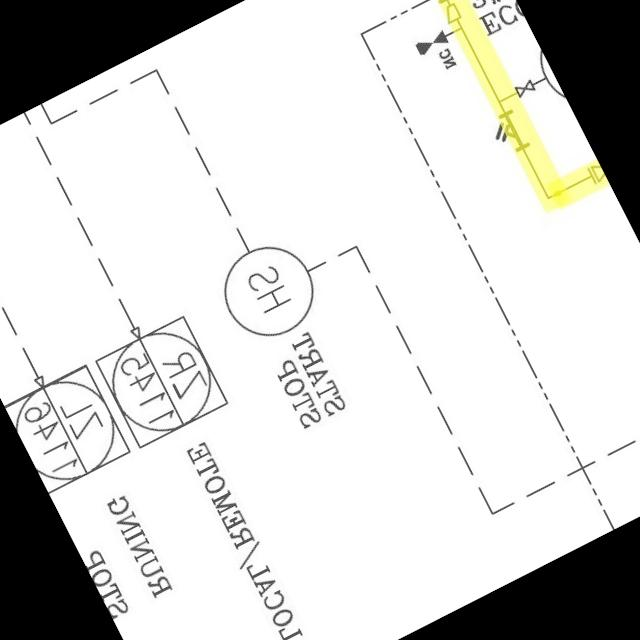SP: (436, 0, 465, 28)
